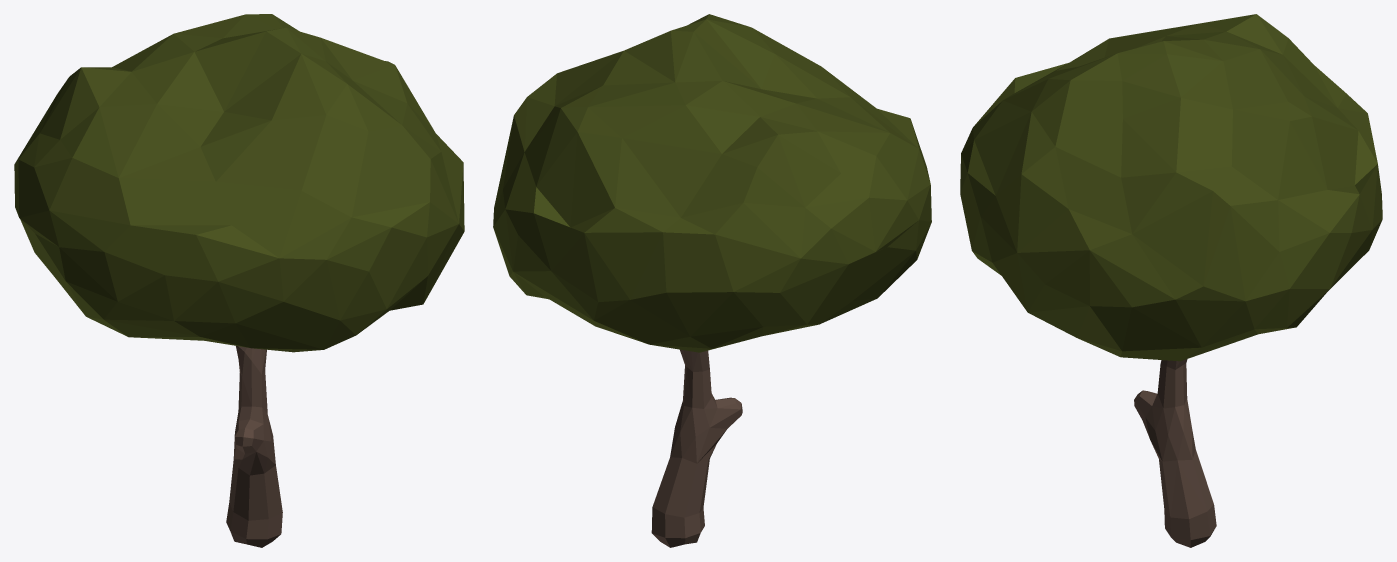
Rendered from fantasy_tree_2.fbx.
The picture shows the model from 3 angles, left to right: view 1: azimuth 30°, elevation 25°; view 2: azimuth 150°, elevation 25°; view 3: azimuth 270°, elevation 25°; orthographic projection. The views are drawn at different scales.
Parts seen in each view (by area): view 1: Cube.258; view 2: Cube.258; view 3: Cube.258.
Boxes of the visible parts, x1=… form: Cube.258: x1=14, y1=14, x2=464, y2=547; Cube.258: x1=493, y1=14, x2=931, y2=547; Cube.258: x1=960, y1=14, x2=1382, y2=547.
Bounding box in the file's own units: 423 × 531 × 407.
